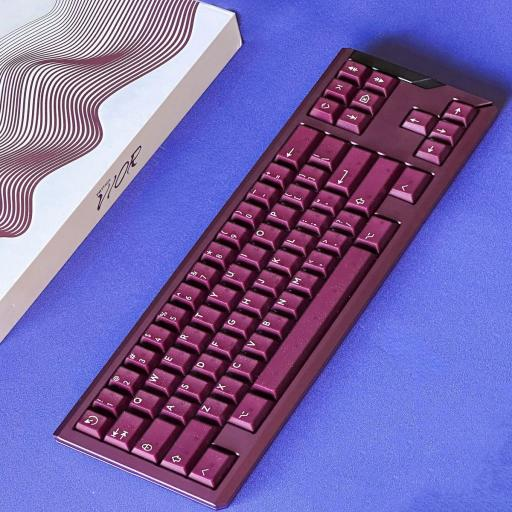KEYBOARD-2: (52, 42, 500, 511)
